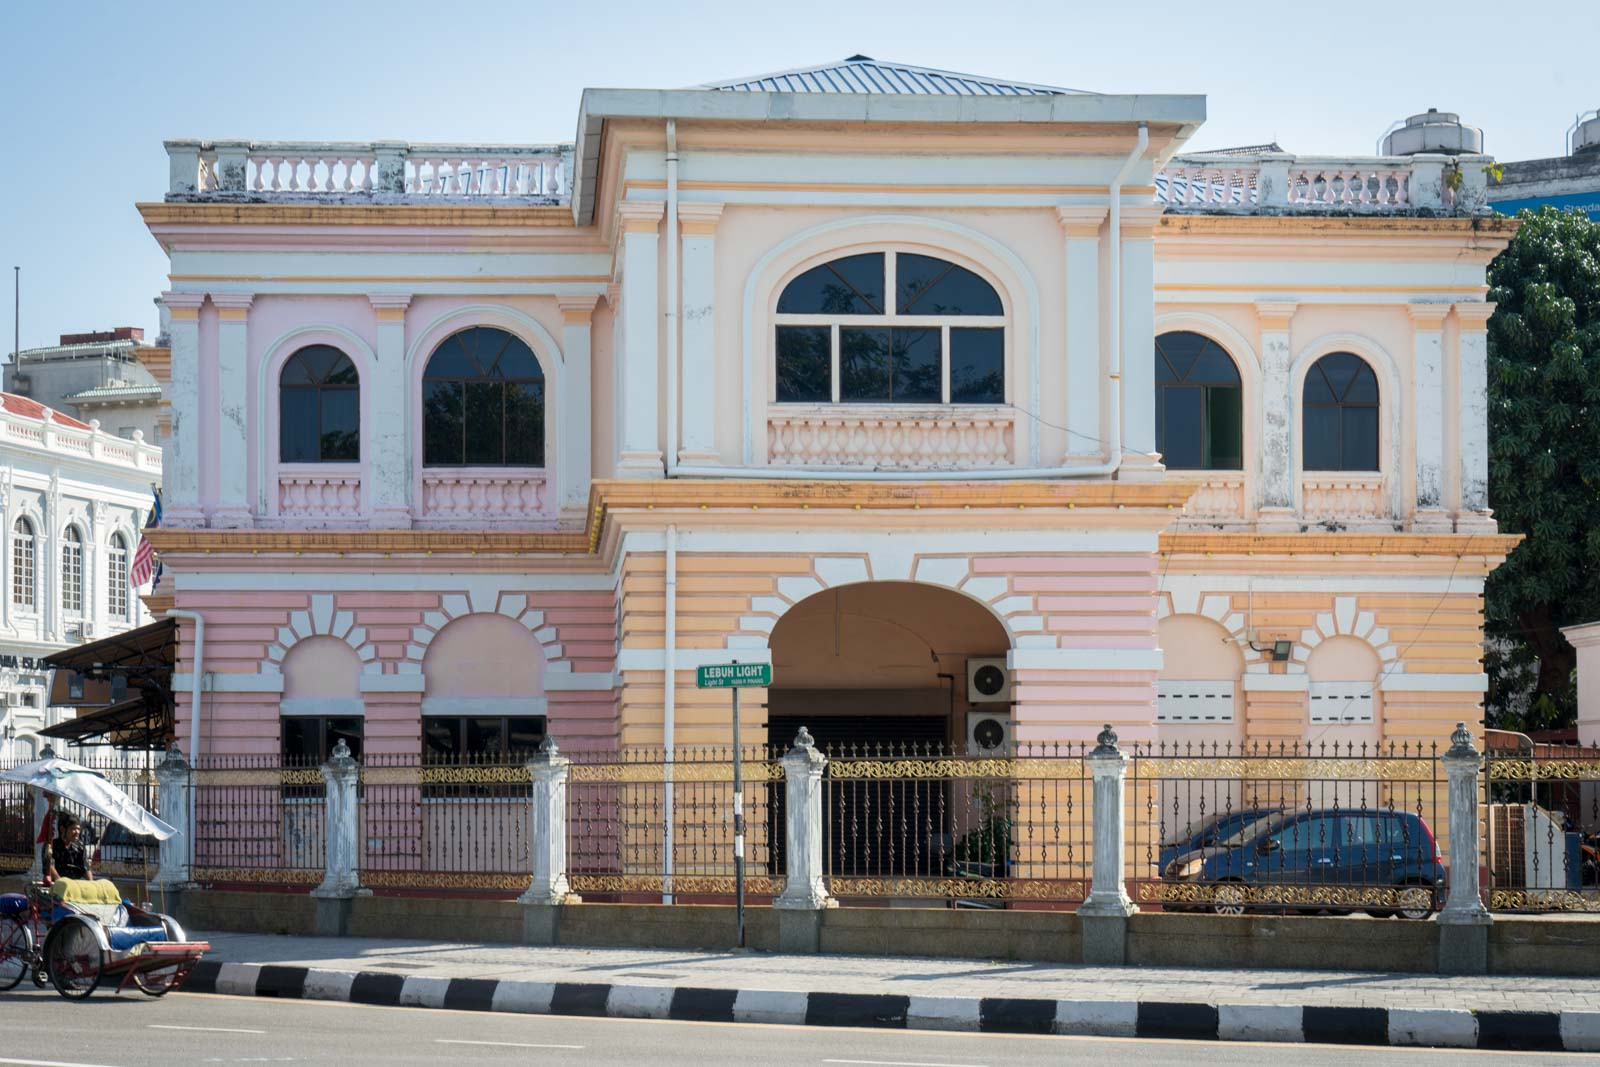Church: (146, 73, 1464, 891)
